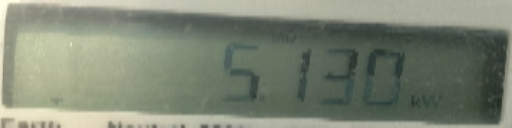0: (358, 35, 410, 108)
1: (293, 44, 314, 107)
3: (319, 40, 357, 107)
5: (220, 35, 262, 107)
d: (259, 89, 272, 105)
